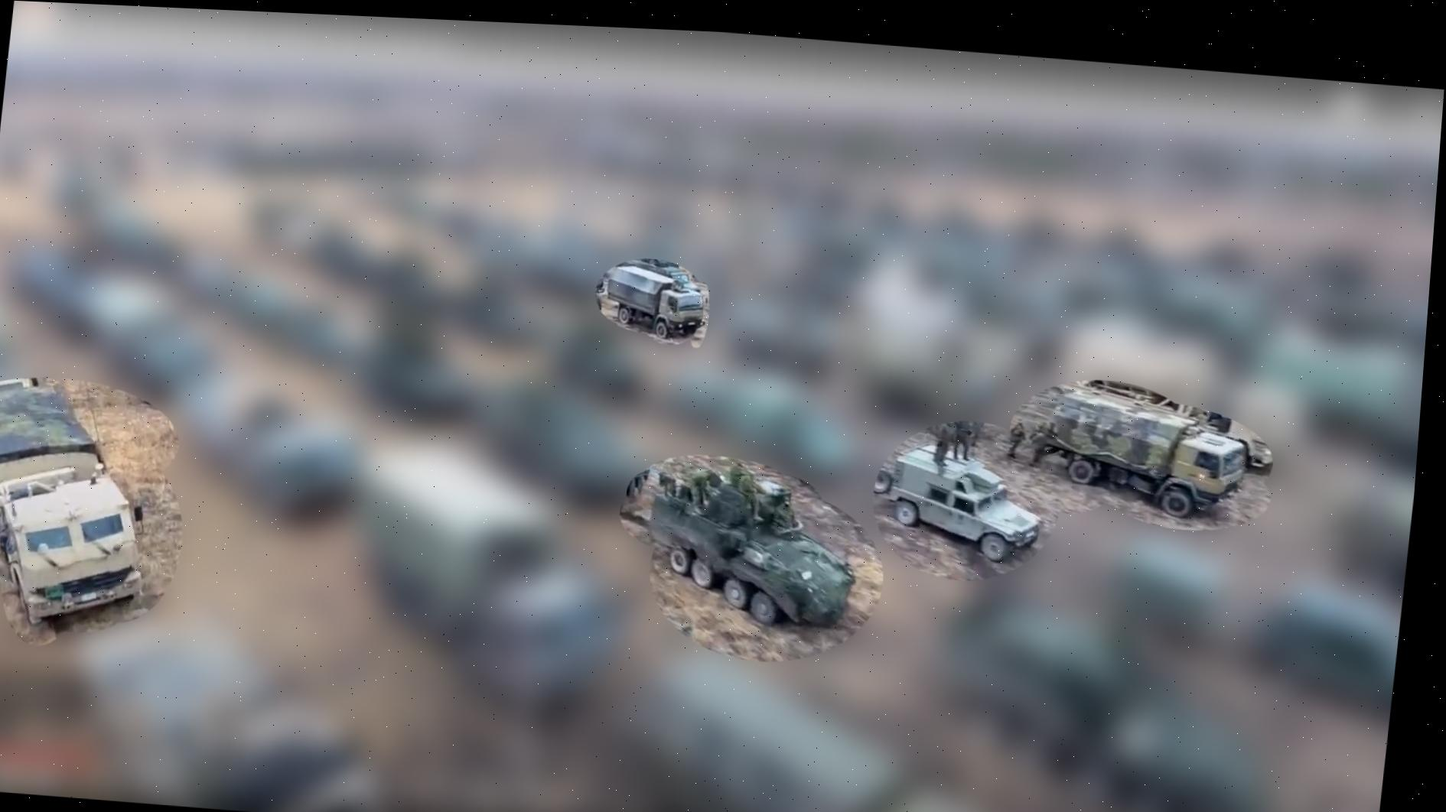armored_car: (636, 462, 863, 633), (882, 433, 1052, 563)
truck: (0, 383, 165, 635), (1032, 378, 1257, 523), (591, 254, 715, 349)
